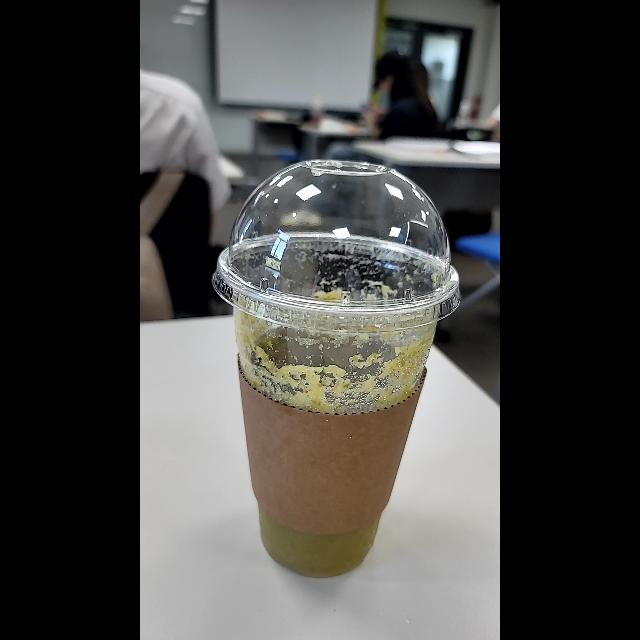plastic_cup: (208, 157, 464, 577)
plastic_cup_lid: (212, 156, 464, 340)
